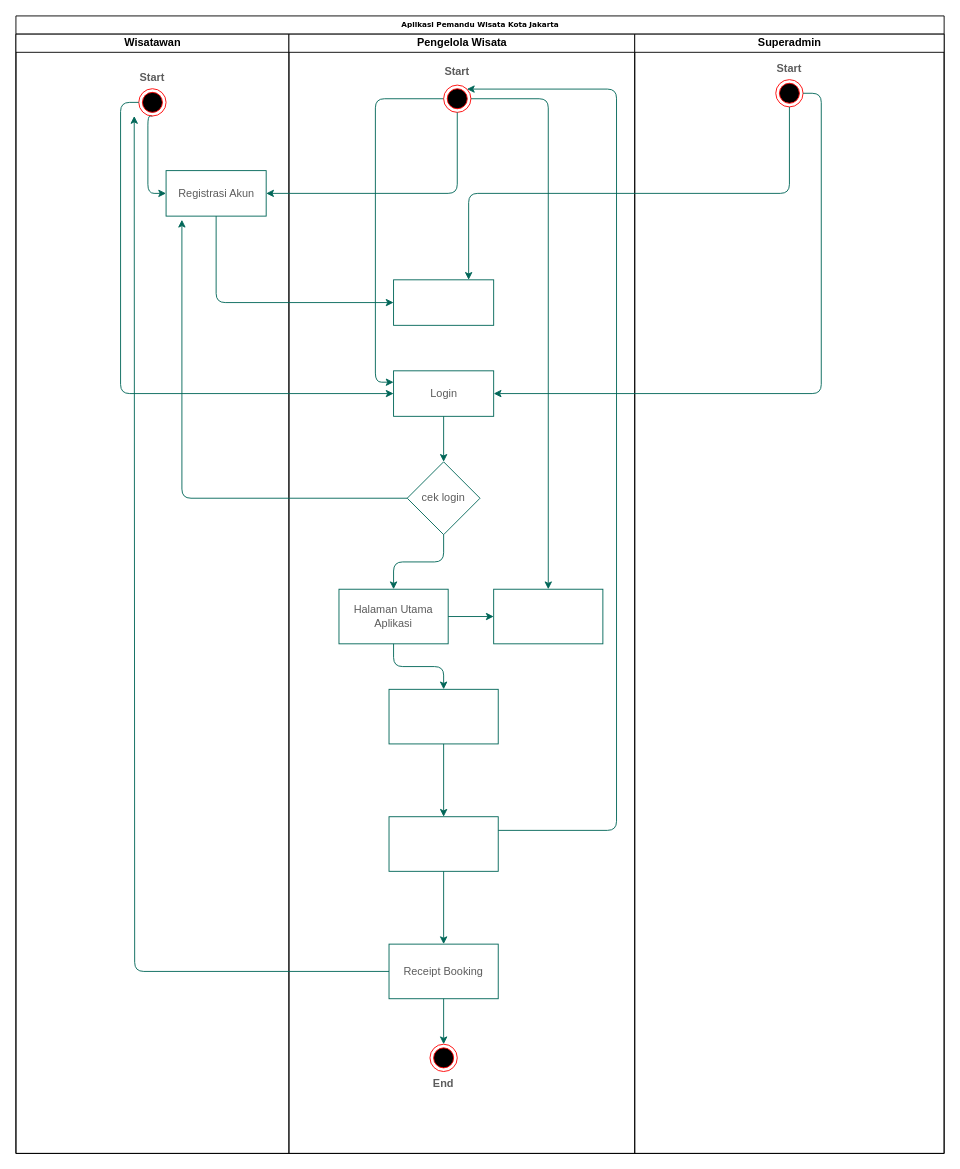
Some shapes in this 960 by 1169 pixel diagram are drawn without their labels. Each missing label, with the centre of its shape:
"Data Wisata" belongs at point 548,616.
"Request Booking Wisata" belongs at point 443,716.
"Validasi Order/Booking" belongs at point 443,843.
"Verifikasi akun" belongs at point 443,302.
